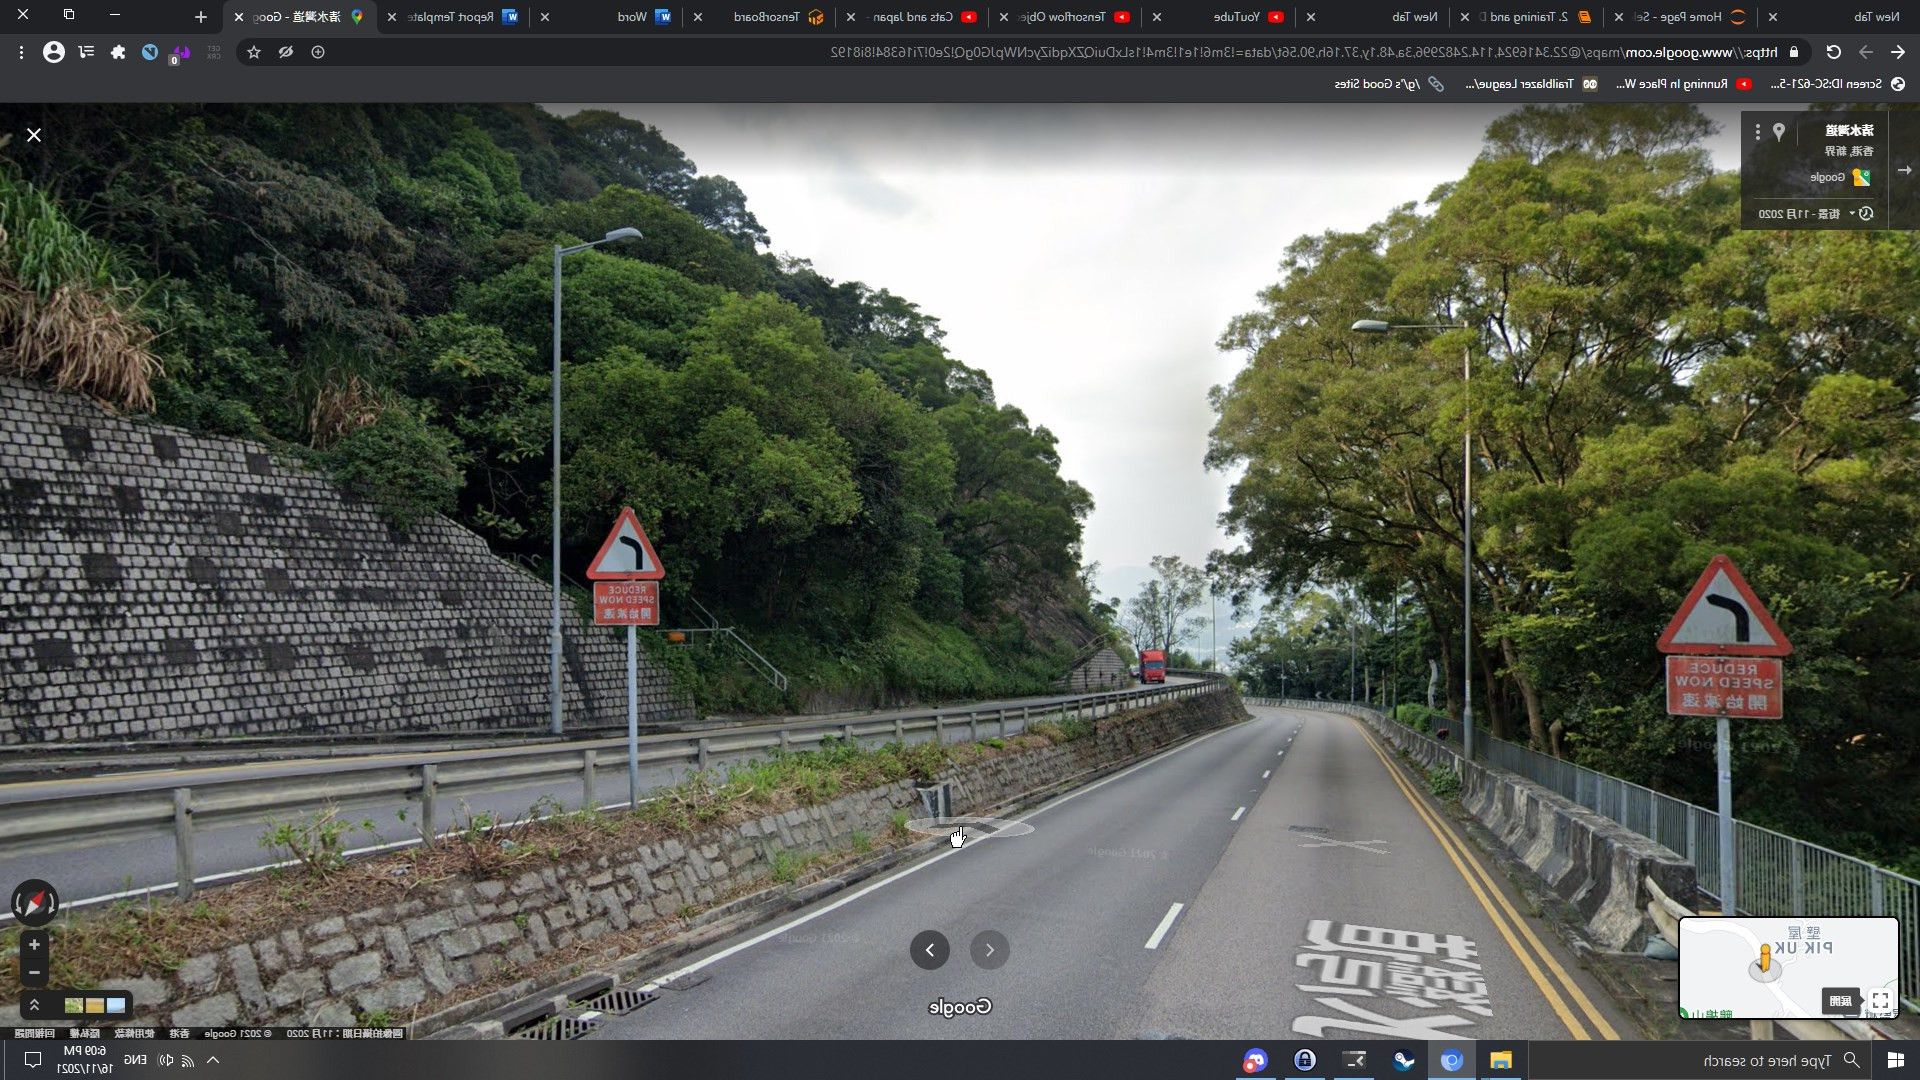BendToLeft: (1654, 554, 1795, 657), (585, 505, 666, 580)
